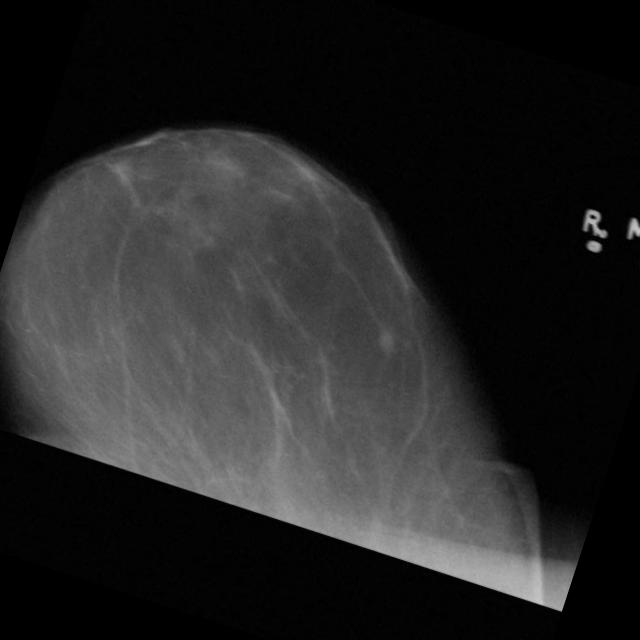SPIC: (361, 317, 408, 365)
